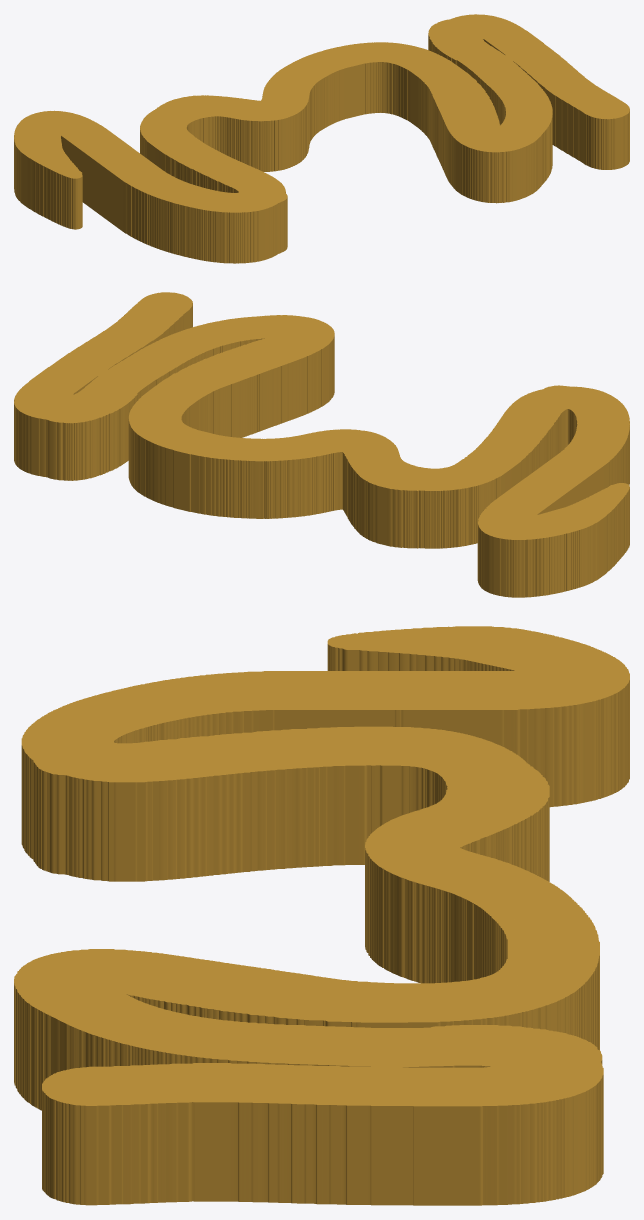
3 views of the same model, one above another, from view 1: azimuth 30°, elevation 25°; view 2: azimuth 150°, elevation 25°; view 3: azimuth 270°, elevation 25° (orthographic). The views are drawn at different scales.
Parts seen in each view (by area): view 1: Curve.012; view 2: Curve.012; view 3: Curve.012.
Part boxes in pixels (x1,y1,x2,y2): Curve.012: (14,14,629,263); Curve.012: (14,292,629,597); Curve.012: (14,626,629,1205).
Size of the model in its own units: 108 by 10.43 by 58.65.
